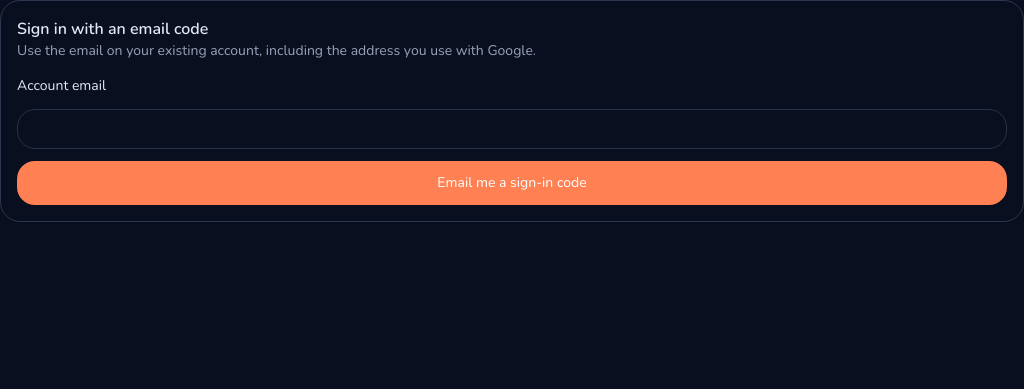
Email code sign-in › explains invalid codes while allowing correction
Type "existing@example.test" into the field with id "code-email".
click(512, 129); type("existing@example.test")  # box [17,109,1007,149]
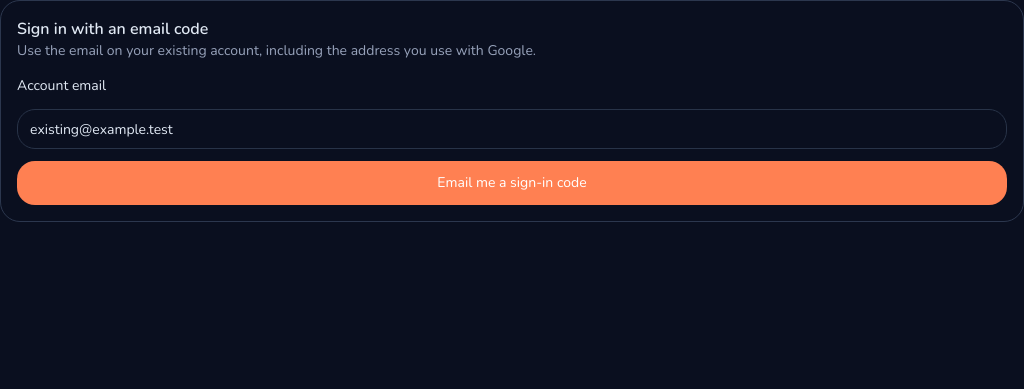
Submit the form, box [17,73,1007,205]
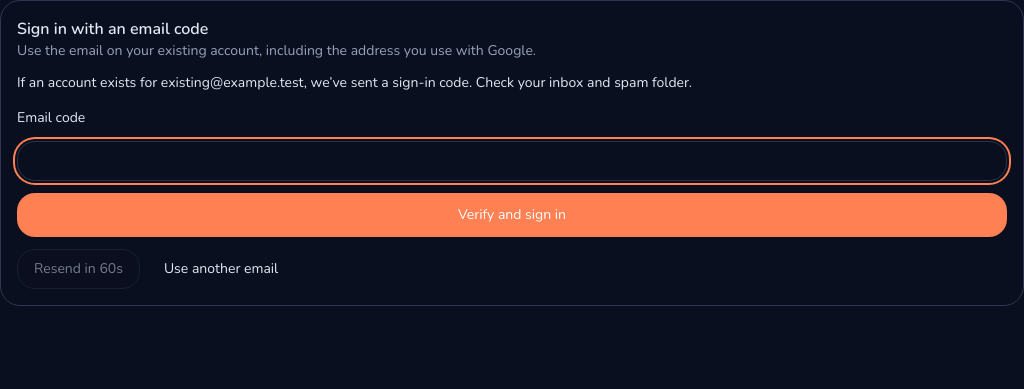
Type "123456" into the field with id "signin-code".
click(512, 161); type("123456")  # box [17,141,1007,181]
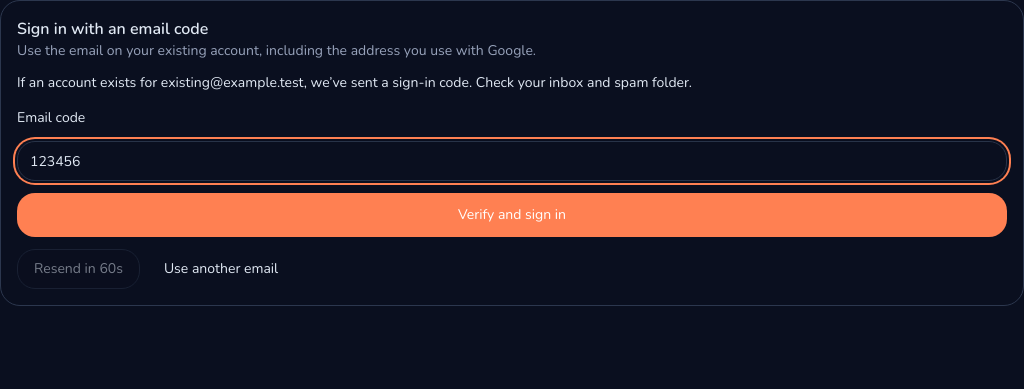
Submit the form, box [17,105,1007,237]
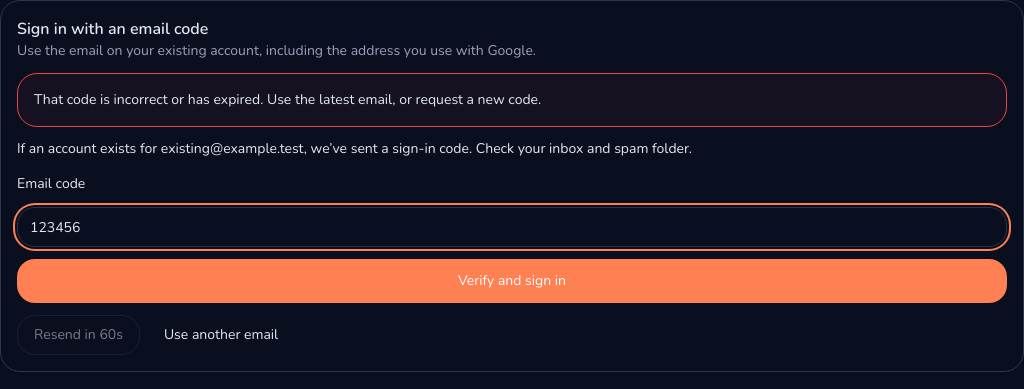
expect the text "incorrect or has expired" is shown: met, box [34,90,541,109]
